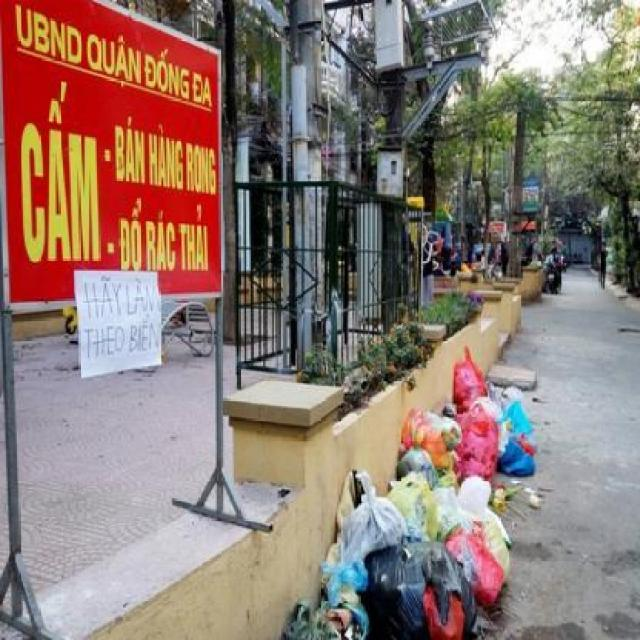plastic bag: (272, 346, 558, 639)
